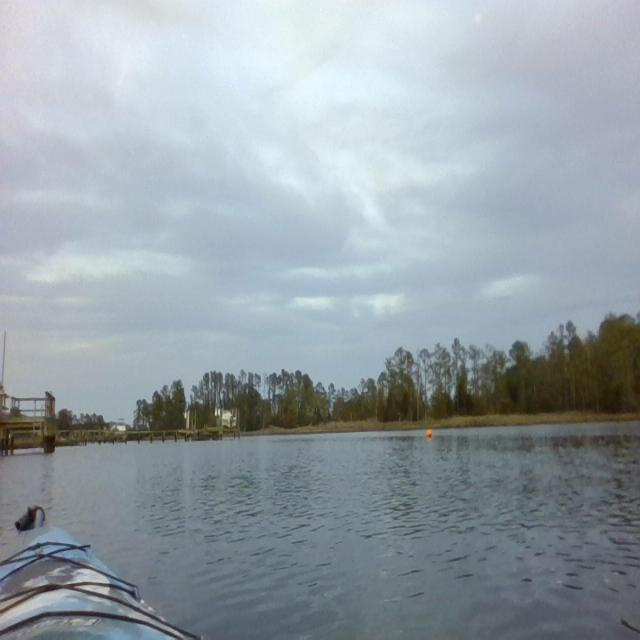Buoy: (425, 426, 433, 441)
